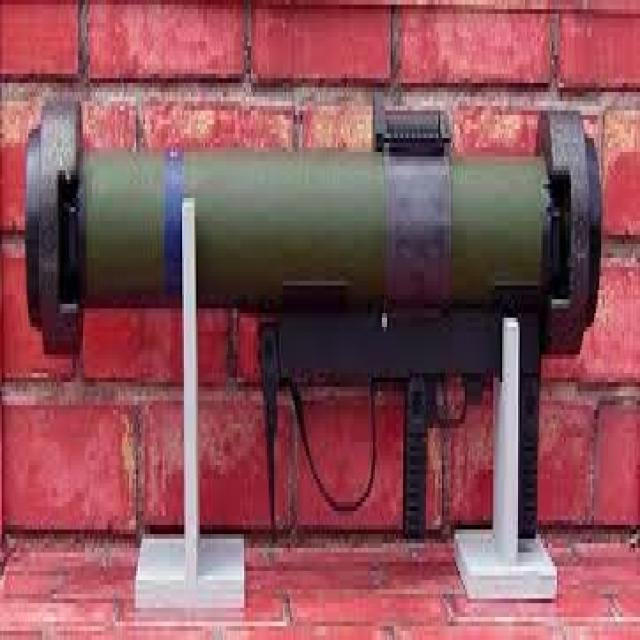bazooka: (12, 41, 617, 431)
